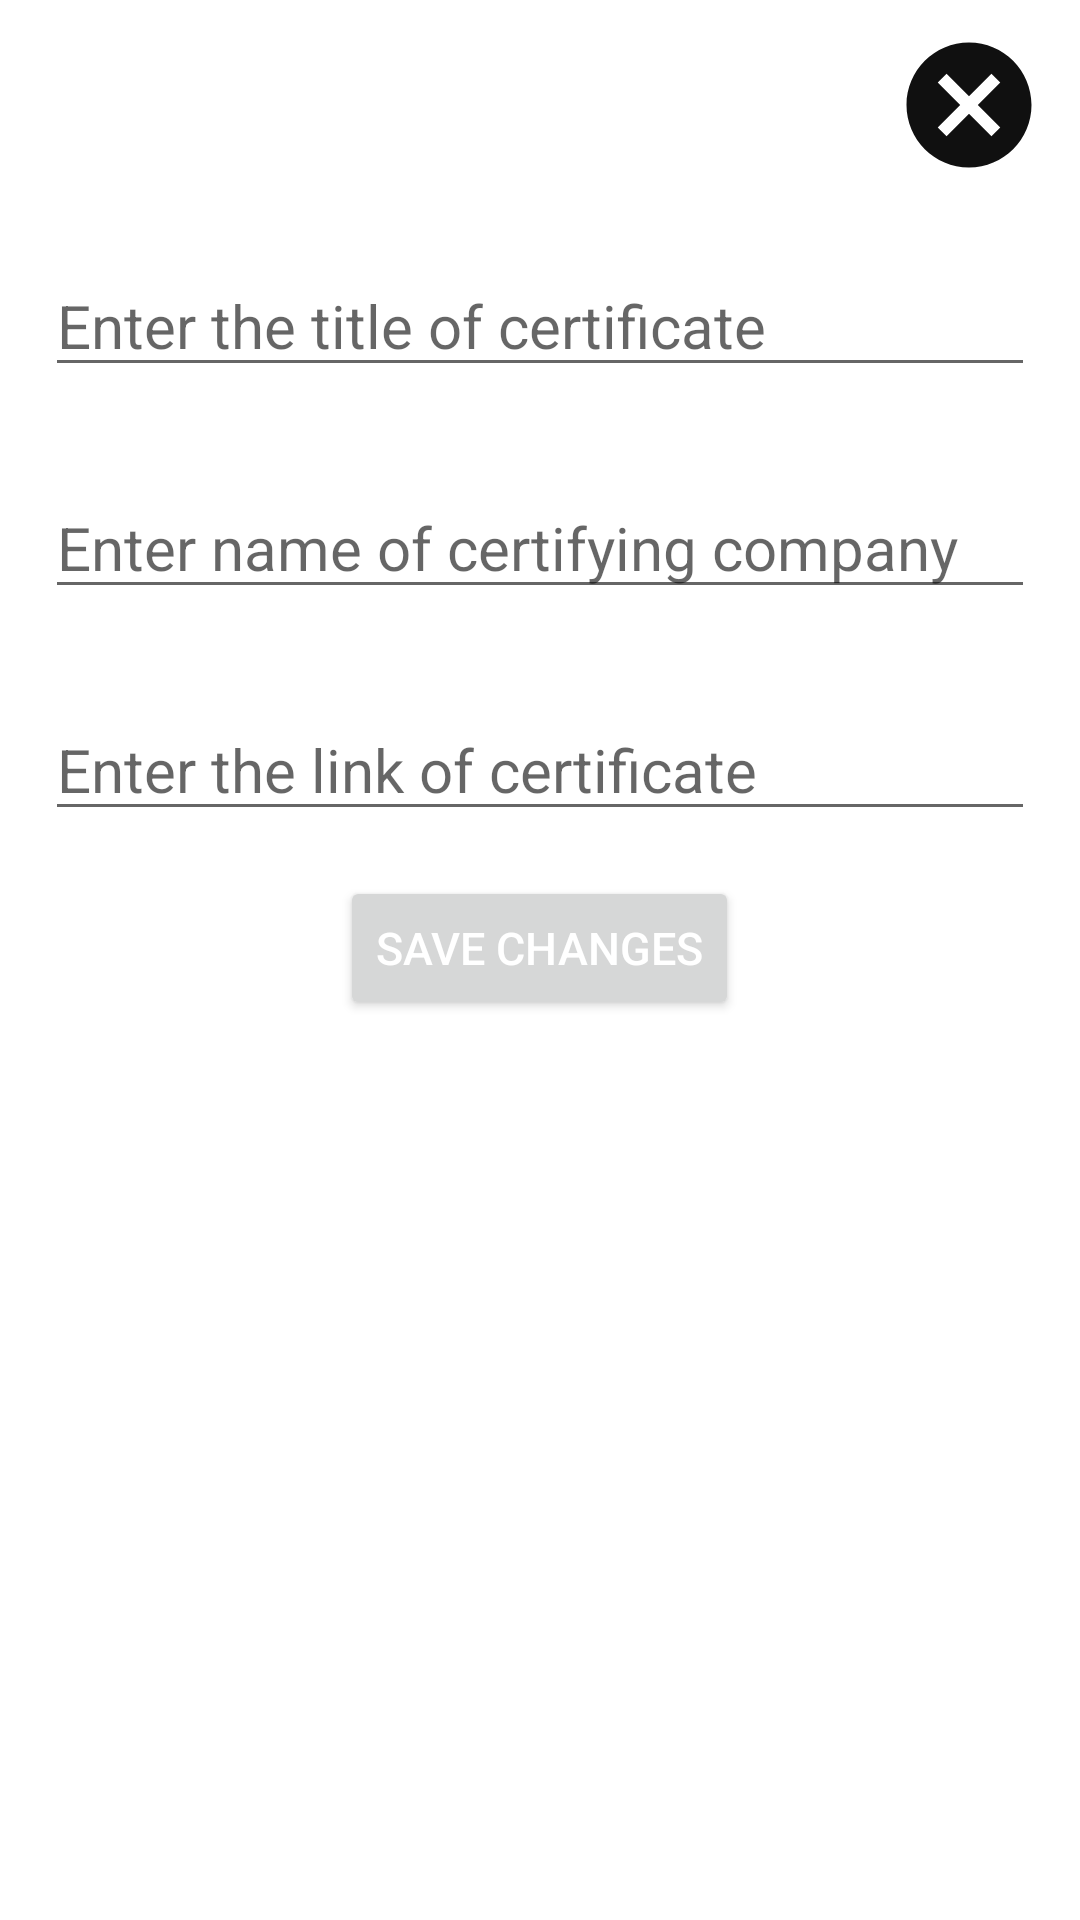

Locate icon controls on the screen. Image size 1080×1920, boxes as bbox(x1, y1, x2, y2).
cancel: bbox(906, 42, 1032, 168)
